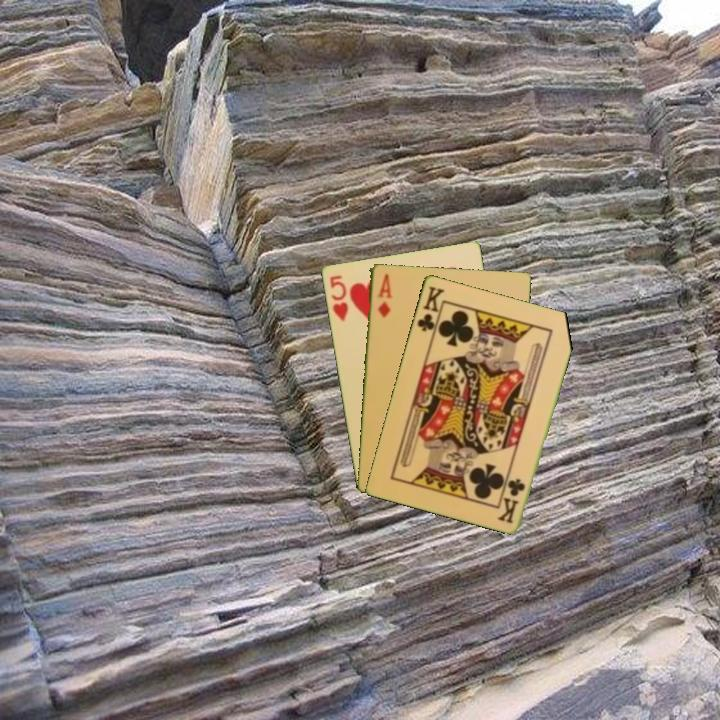5h: (326, 271, 351, 324)
Ad: (373, 270, 394, 320)
Kc: (413, 282, 447, 339), (497, 474, 528, 526)
